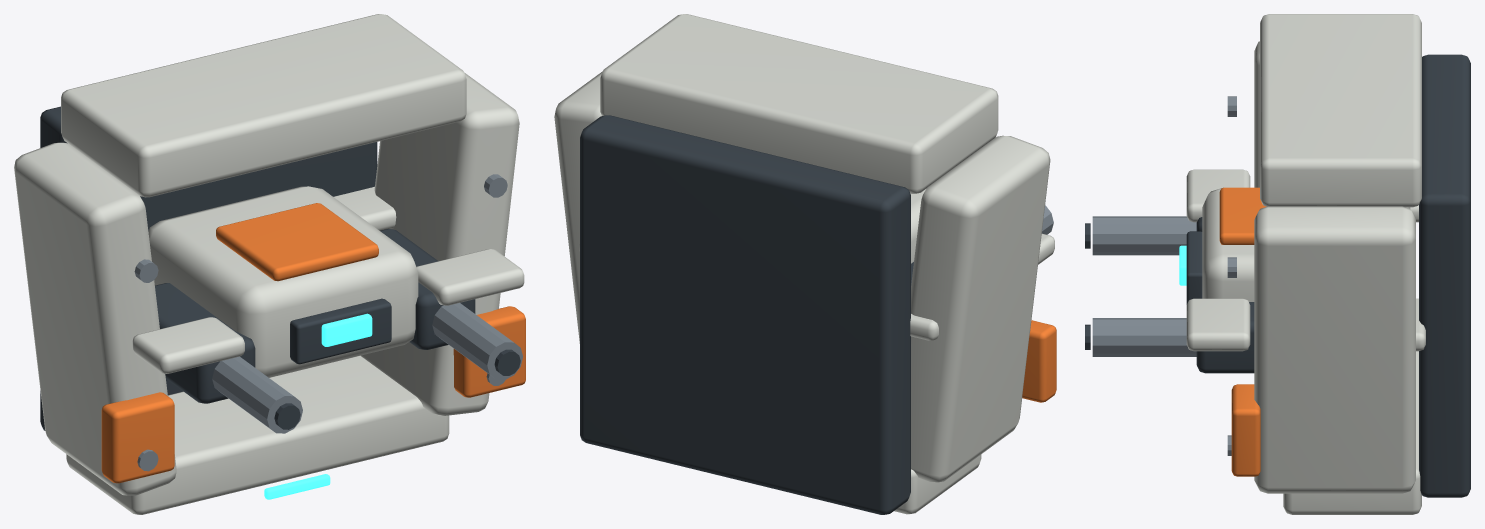
The model's file is VXDR_ATTACK_v001_DOCKED.fbx.
3 renders of one model, left to right at view 1: azimuth 30°, elevation 25°; view 2: azimuth 150°, elevation 25°; view 3: azimuth 270°, elevation 25°, orthographic. The views are drawn at different scales.
Visible parts, largest first — view 1: Docked_Top bridge, Docked_Cradle armored rail, Docked_Bottom charging bridge, Docked_Armored sensor shell, Docked_Cradle armored rail.001, Docked_Body mounting plate, Docked_Top identification, Docked_Rail orange latch, Docked_Foldable stabilizer, Docked_Foldable stabilizer.002, Docked_Sensor recess, Docked_Gun carrier (+7 smaller); view 2: Docked_Body mounting plate, Docked_Top bridge, Docked_Cradle armored rail, Docked_Cradle armored rail.001, Docked_Rail orange latch, Docked_Bottom charging bridge, Docked_Foldable stabilizer.001; view 3: Docked_Cradle armored rail.001, Docked_Top bridge, Docked_Body mounting plate, Docked_Cannon barrel, Docked_Cannon barrel.001, Docked_Armored sensor shell, Docked_Bottom charging bridge, Docked_Foldable stabilizer.002, Docked_Rail orange latch.001, Docked_Top identification, Docked_Foldable stabilizer, Docked_Gun carrier.001 (+2 smaller).
Part boxes in pixels (x1=…): Docked_Top bridge: x1=61, y1=14, x2=466, y2=197; Docked_Cradle armored rail: x1=14, y1=142, x2=176, y2=495; Docked_Bottom charging bridge: x1=66, y1=355, x2=449, y2=514; Docked_Armored sensor shell: x1=148, y1=186, x2=418, y2=377; Docked_Cradle armored rail.001: x1=361, y1=72, x2=519, y2=415; Docked_Body mounting plate: x1=40, y1=106, x2=377, y2=430; Docked_Top identification: x1=216, y1=203, x2=378, y2=281; Docked_Rail orange latch: x1=101, y1=392, x2=174, y2=483; Docked_Foldable stabilizer: x1=132, y1=317, x2=244, y2=373; Docked_Foldable stabilizer.002: x1=416, y1=249, x2=524, y2=305; Docked_Sensor recess: x1=290, y1=298, x2=391, y2=364; Docked_Gun carrier: x1=155, y1=283, x2=255, y2=403; Docked_Body mounting plate: x1=580, y1=115, x2=910, y2=514; Docked_Top bridge: x1=600, y1=14, x2=998, y2=193; Docked_Cradle armored rail: x1=911, y1=135, x2=1050, y2=482; Docked_Cradle armored rail.001: x1=554, y1=71, x2=602, y2=343; Docked_Rail orange latch: x1=1022, y1=320, x2=1056, y2=402; Docked_Bottom charging bridge: x1=894, y1=454, x2=981, y2=514; Docked_Foldable stabilizer.001: x1=910, y1=314, x2=938, y2=340; Docked_Cradle armored rail.001: x1=1254, y1=206, x2=1415, y2=493; Docked_Top bridge: x1=1260, y1=14, x2=1421, y2=207; Docked_Body mounting plate: x1=1419, y1=54, x2=1470, y2=497; Docked_Cannon barrel: x1=1092, y1=216, x2=1196, y2=255; Docked_Cannon barrel.001: x1=1092, y1=318, x2=1196, y2=356; Docked_Armored sensor shell: x1=1202, y1=188, x2=1410, y2=301; Docked_Bottom charging bridge: x1=1283, y1=351, x2=1421, y2=514; Docked_Foldable stabilizer.002: x1=1186, y1=298, x2=1250, y2=351; Docked_Rail orange latch.001: x1=1231, y1=384, x2=1260, y2=476; Docked_Top identification: x1=1219, y1=187, x2=1266, y2=244; Docked_Foldable stabilizer: x1=1186, y1=169, x2=1250, y2=222; Docked_Gun carrier.001: x1=1196, y1=302, x2=1254, y2=373.
Size of the model in its own units: 40.81 by 35 by 33.4.
